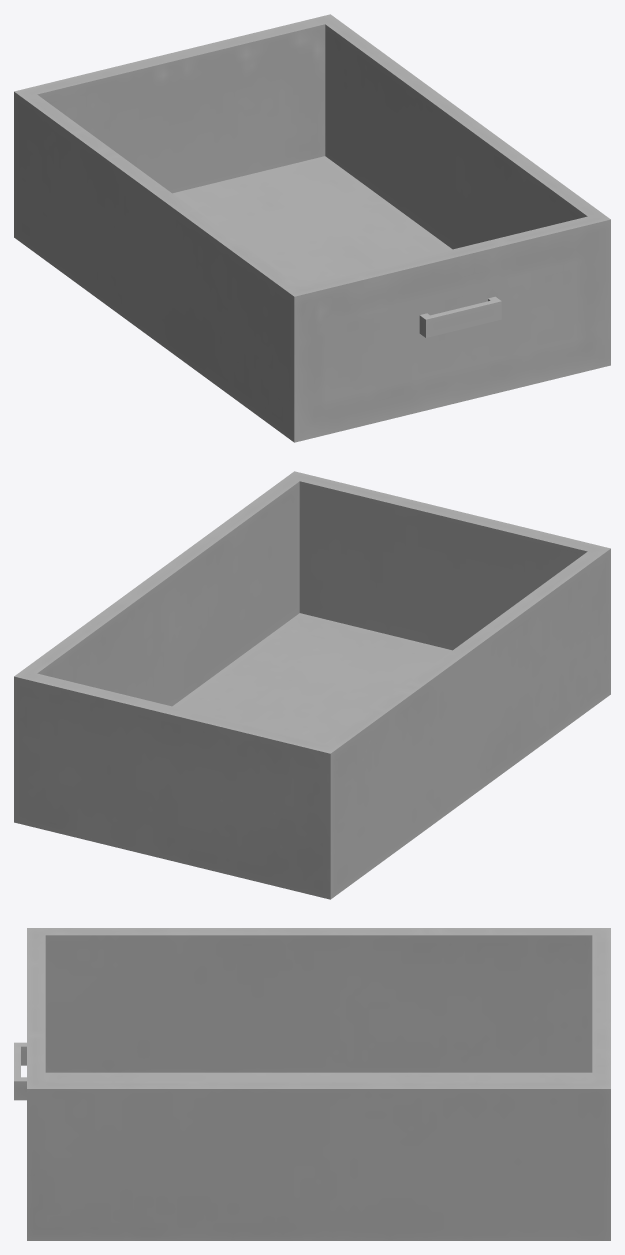
File: SM_Cabinet__8.fbx
3 views of the same model, one above another, from view 1: azimuth 30°, elevation 25°; view 2: azimuth 150°, elevation 25°; view 3: azimuth 270°, elevation 25° (orthographic). The views are drawn at different scales.
Visible parts, largest first — view 1: Kitchen 4; view 2: Kitchen 4; view 3: Kitchen 4.
Boxes of the visible parts, x1,y1,x2,y2 form: Kitchen 4: (14, 14, 610, 442); Kitchen 4: (14, 471, 610, 899); Kitchen 4: (14, 928, 610, 1240).
Bounding box in the file's own units: 1.16 × 0.5092 × 1.81.
1 material, 1 textured.
